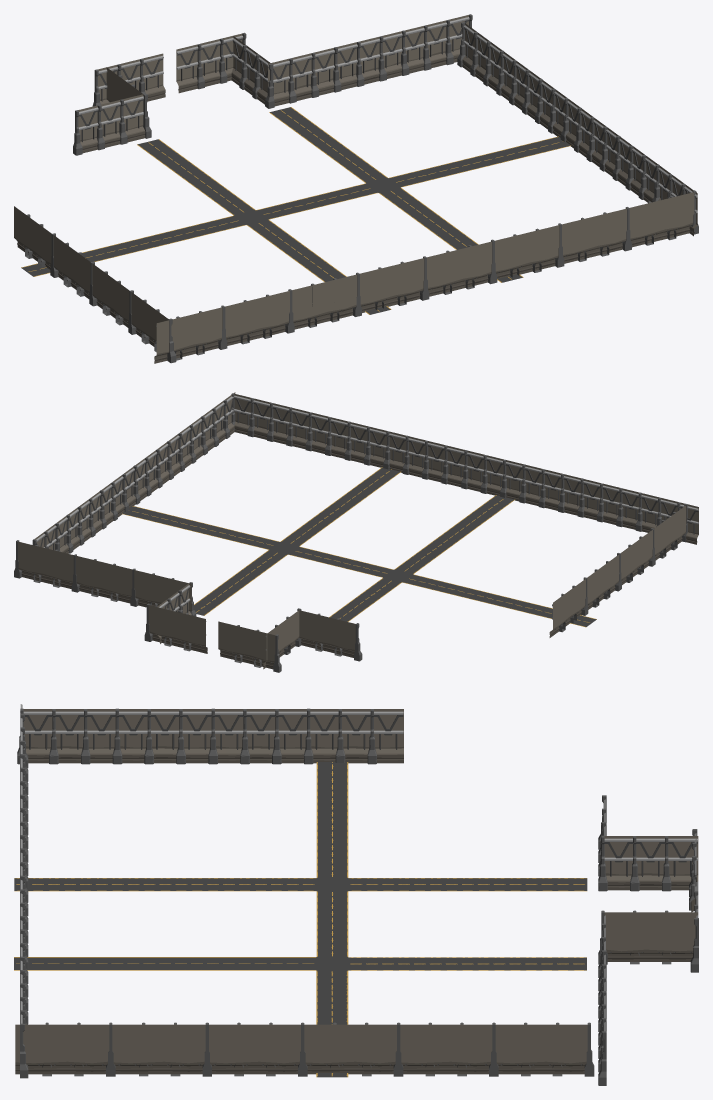
The model's file is City.glb.
3 views of the same model, one above another, from view 1: azimuth 30°, elevation 25°; view 2: azimuth 150°, elevation 25°; view 3: azimuth 270°, elevation 25° (orthographic). The views are drawn at different scales.
Parts seen in each view (by area): view 1: SM_Bld_Industrial_02__5_.001, SM_Bld_Industrial_02__4_.001, SM_Bld_Industrial_02__3_.001, SM_Bld_Industrial_02__12_.001, SM_Bld_Industrial_02__15_.001, SM_Bld_Industrial_02__14_.001, SM_Bld_Industrial_02__17_.001, SM_Bld_Industrial_02__16_.001, SM_Bld_Industrial_02__11_.001, SM_Bld_Industrial_02__18_.001, SM_Bld_Industrial_02__13_.001, SM_Bld_Industrial_02__26_ (+14 smaller); view 2: SM_Bld_Industrial_02__12_.001, SM_Bld_Industrial_02__14_.001, SM_Bld_Industrial_02__15_.001, SM_Bld_Industrial_02__17_.001, SM_Bld_Industrial_02__11_.001, SM_Bld_Industrial_02__18_.001, SM_Bld_Industrial_02__13_.001, SM_Bld_Industrial_02__5_.001, SM_Bld_Industrial_02__27_, SM_Bld_Industrial_02__26_, SM_Bld_Industrial_02__4_.001, SM_Bld_Industrial_02__25_.001 (+14 smaller); view 3: SM_Bld_Industrial_02__8_.001, SM_Bld_Industrial_02__10_.001, SM_Bld_Industrial_02__7_.001, SM_Bld_Industrial_02__6_.001, SM_Bld_Industrial_02__9_.001, SM_Bld_Industrial_02__20_.001, SM_Bld_Industrial_02__24_.001, SM_Bld_Industrial_02__19_.001, SM_Bld_Industrial_02__22_.001, SM_Bld_Industrial_02__21_.001, SM_Bld_Industrial_02__23_.001, SM_Bld_Industrial_02__2_.001.
Part boxes in pixels (x1,y1,x2,y2): SM_Bld_Industrial_02__5_.001: [73, 94, 145, 155]; SM_Bld_Industrial_02__4_.001: [336, 30, 409, 90]; SM_Bld_Industrial_02__3_.001: [268, 47, 341, 106]; SM_Bld_Industrial_02__12_.001: [427, 239, 497, 296]; SM_Bld_Industrial_02__15_.001: [225, 289, 294, 345]; SM_Bld_Industrial_02__14_.001: [562, 207, 631, 263]; SM_Bld_Industrial_02__17_.001: [292, 272, 361, 329]; SM_Bld_Industrial_02__16_.001: [154, 305, 227, 363]; SM_Bld_Industrial_02__11_.001: [495, 223, 564, 278]; SM_Bld_Industrial_02__18_.001: [360, 256, 429, 312]; SM_Bld_Industrial_02__13_.001: [629, 190, 698, 247]; SM_Bld_Industrial_02__26_: [176, 32, 246, 93]; SM_Bld_Industrial_02__12_.001: [402, 435, 465, 487]; SM_Bld_Industrial_02__14_.001: [286, 407, 348, 458]; SM_Bld_Industrial_02__15_.001: [577, 478, 639, 529]; SM_Bld_Industrial_02__17_.001: [519, 464, 581, 515]; SM_Bld_Industrial_02__11_.001: [344, 421, 406, 472]; SM_Bld_Industrial_02__18_.001: [461, 450, 523, 501]; SM_Bld_Industrial_02__13_.001: [231, 393, 289, 444]; SM_Bld_Industrial_02__5_.001: [299, 610, 362, 661]; SM_Bld_Industrial_02__27_: [218, 621, 281, 672]; SM_Bld_Industrial_02__26_: [144, 603, 207, 653]; SM_Bld_Industrial_02__4_.001: [71, 554, 132, 603]; SM_Bld_Industrial_02__25_.001: [14, 540, 73, 588]; SM_Bld_Industrial_02__8_.001: [304, 708, 403, 764]; SM_Bld_Industrial_02__10_.001: [112, 708, 211, 764]; SM_Bld_Industrial_02__7_.001: [208, 708, 306, 764]; SM_Bld_Industrial_02__6_.001: [598, 835, 698, 891]; SM_Bld_Industrial_02__9_.001: [17, 708, 115, 764]; SM_Bld_Industrial_02__20_.001: [112, 1022, 211, 1076]; SM_Bld_Industrial_02__24_.001: [495, 1022, 594, 1076]; SM_Bld_Industrial_02__19_.001: [209, 1022, 307, 1076]; SM_Bld_Industrial_02__22_.001: [400, 1022, 498, 1076]; SM_Bld_Industrial_02__21_.001: [304, 1022, 403, 1076]; SM_Bld_Industrial_02__23_.001: [15, 1022, 115, 1076]; SM_Bld_Industrial_02__2_.001: [598, 910, 698, 964].
Bounding box in the file's own units: 249 × 18 × 215.
Materials: 3 (3 with a texture image).
